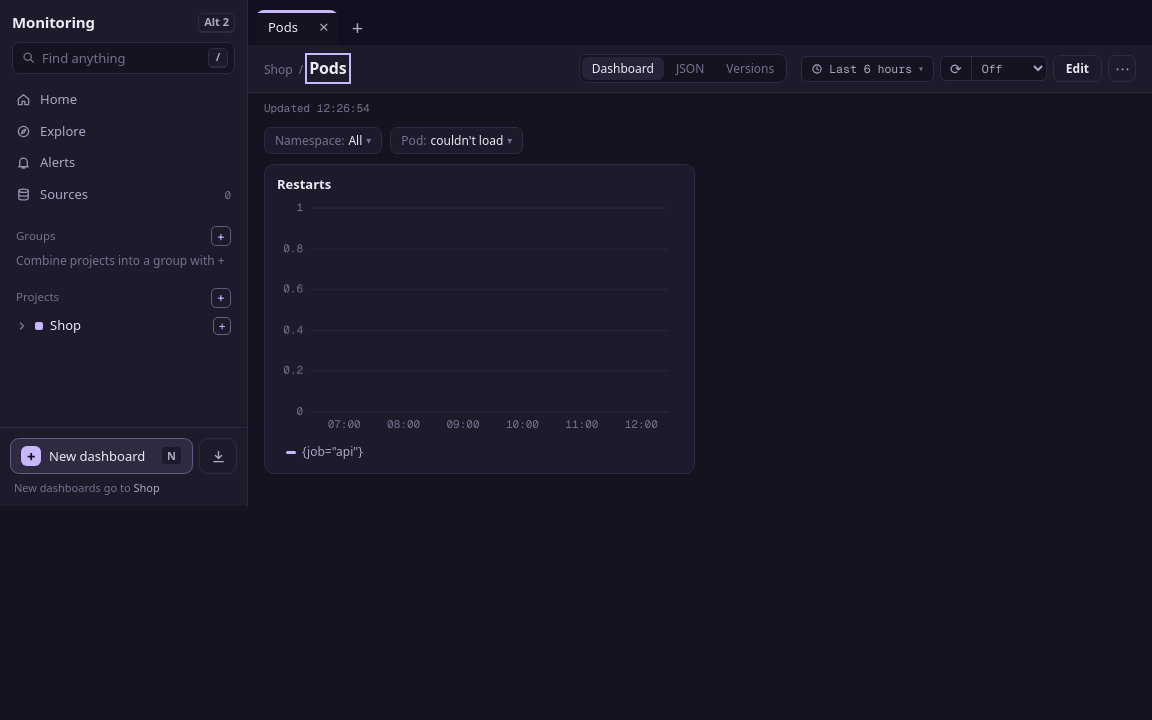
Test: Dashboard variables › a value that can't be placed in a selector says so, without Try again
Click the button "Pod: couldn't load ▾".
click(457, 141)  # box [390,127,523,154]
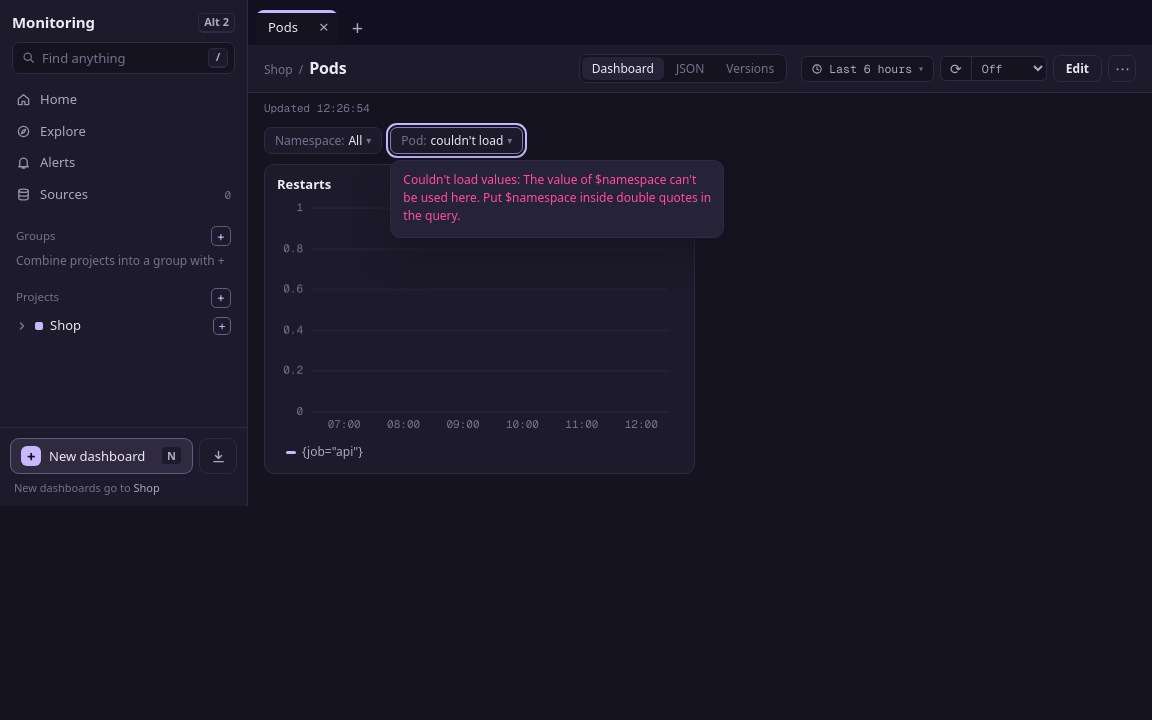
Expected: the text "Couldn't load values: The value of $namespace can't be used here." is shown, [403,171,711,225]
